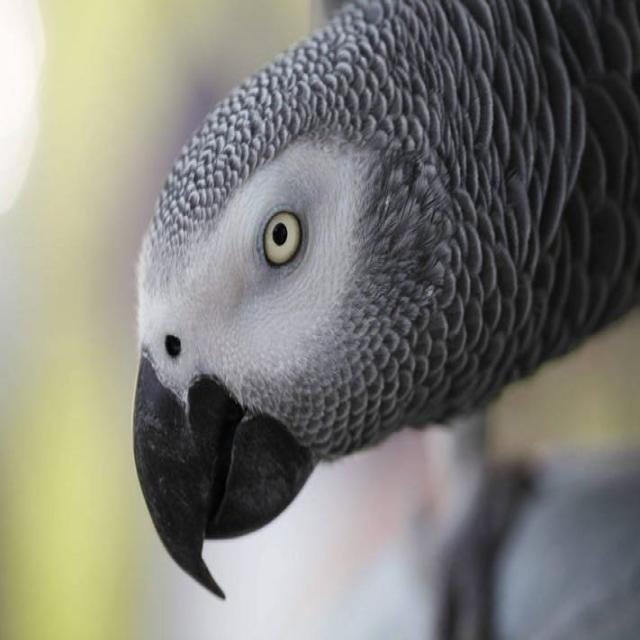Parrot: (128, 0, 640, 566)
